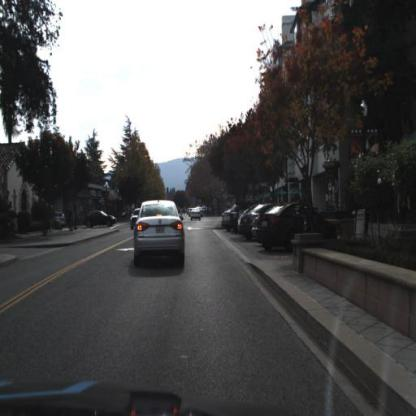car: (130, 196, 188, 269), (253, 198, 323, 253), (252, 200, 310, 251), (78, 206, 116, 231), (179, 205, 198, 229), (239, 210, 252, 239), (56, 211, 72, 233), (131, 209, 141, 231), (191, 207, 203, 224)
pedestrian: (49, 204, 55, 230)
